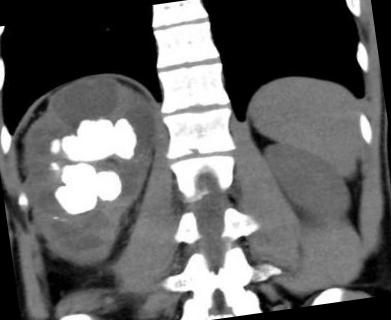Tas_Var: (56, 104, 141, 172), (41, 157, 126, 219), (44, 132, 62, 157), (44, 158, 62, 176), (49, 214, 58, 220)
